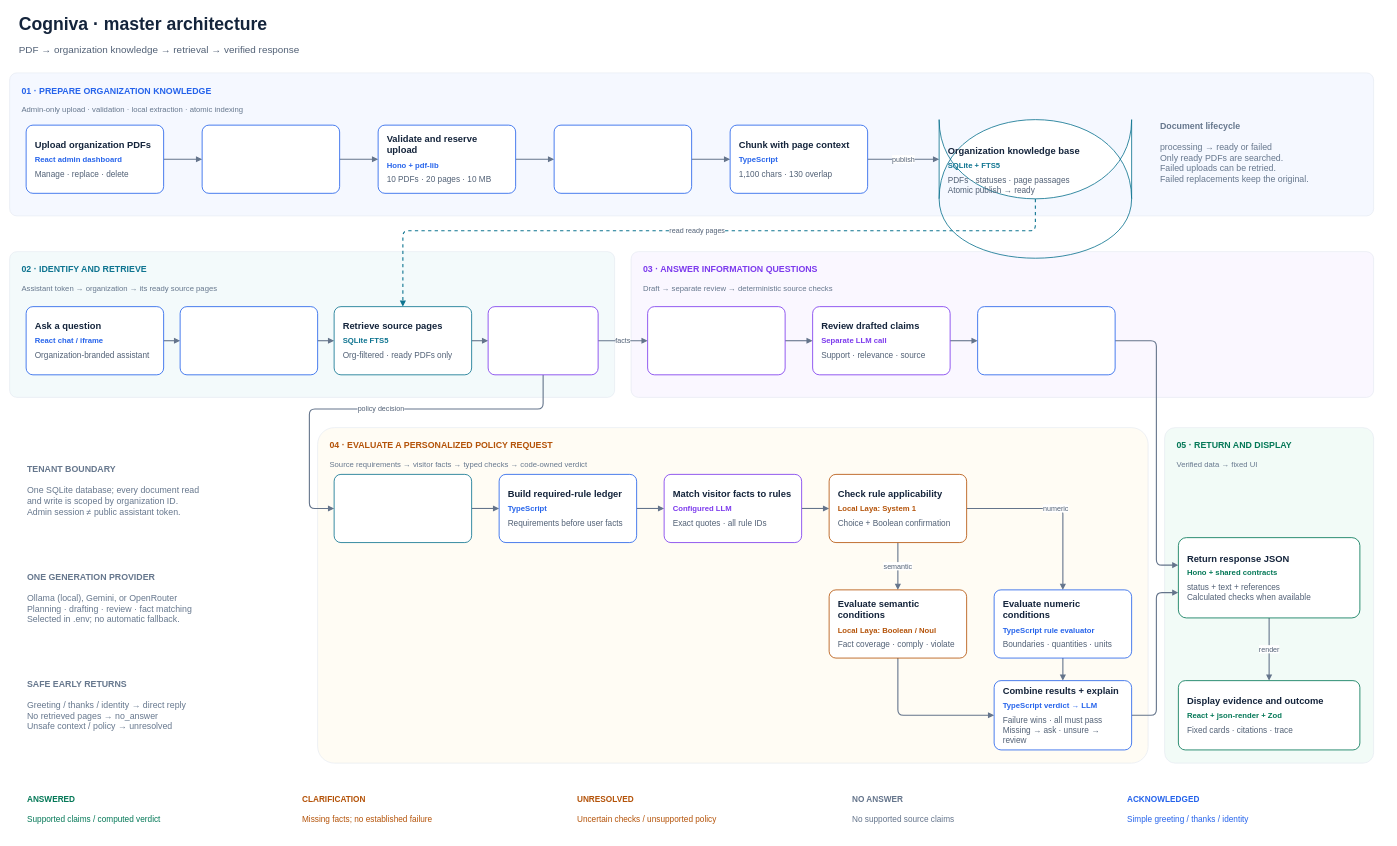
Image size: 1397x846. Some labels were removed from this diagram. Each missing label, with the centre of its shape:
Authorize administrator Hono + Better Auth Session + owner/admin role: pixel 270 158
Draft cited claims Configured LLM One part per explicit request: pixel 716 340
Expand policy context Org-scoped SQLite Full documents + named links: pixel 402 508
Extract each page Local Firecrawl AnyDoc PDF → page Markdown: pixel 622 158
Identify organization Node.js / Hono Token lookup + rate limit: pixel 248 340
Route the request LLM + TypeScript guards Information or decision: pixel 542 340
Validate source quotations TypeScript Exact source · numbers · units: pixel 1046 340
